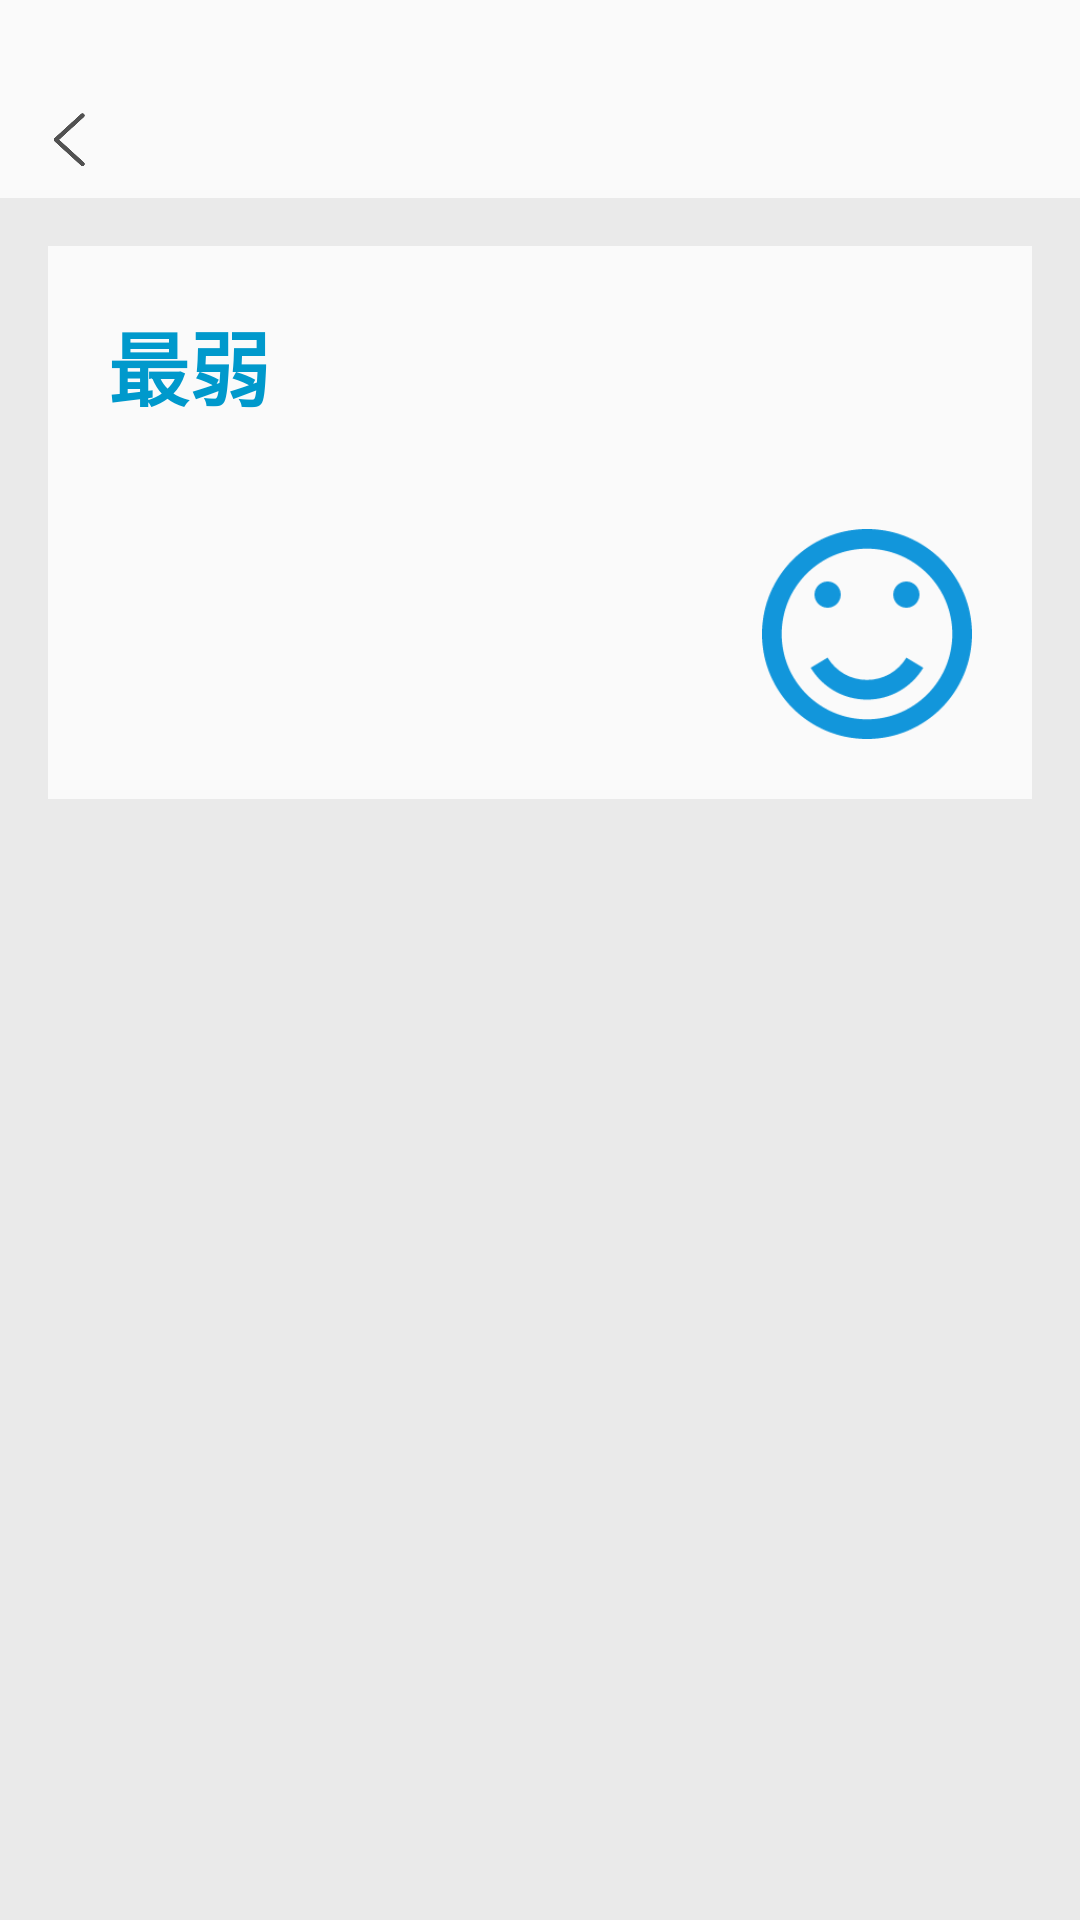

Point at icon controls on the screen. Image size 1080 x 1920, points as (x,y).
back: (69,139)
comfortable: (867,634)
